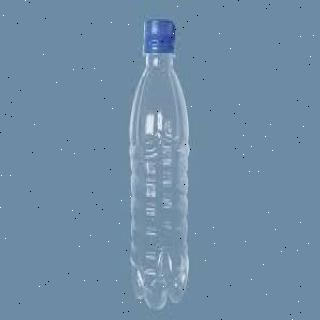Plastic-bottle: (129, 16, 192, 314)
